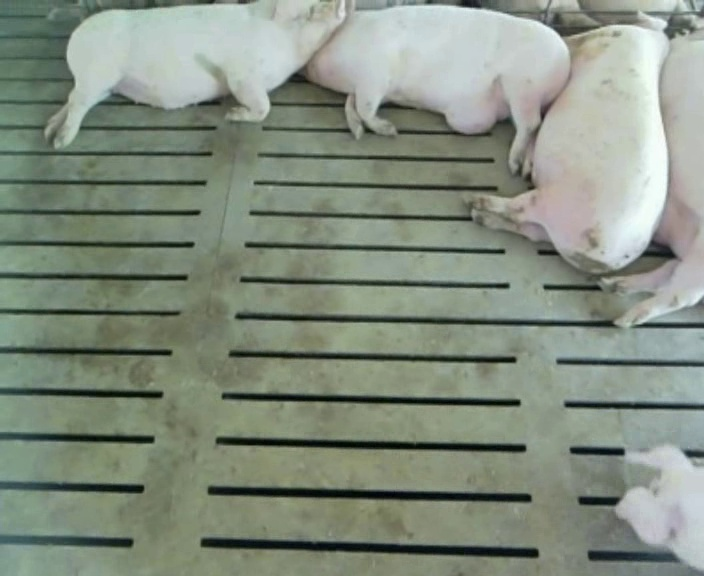pig: (472, 11, 668, 273), (306, 1, 569, 176), (45, 2, 346, 148), (601, 28, 703, 326), (616, 445, 703, 570)
